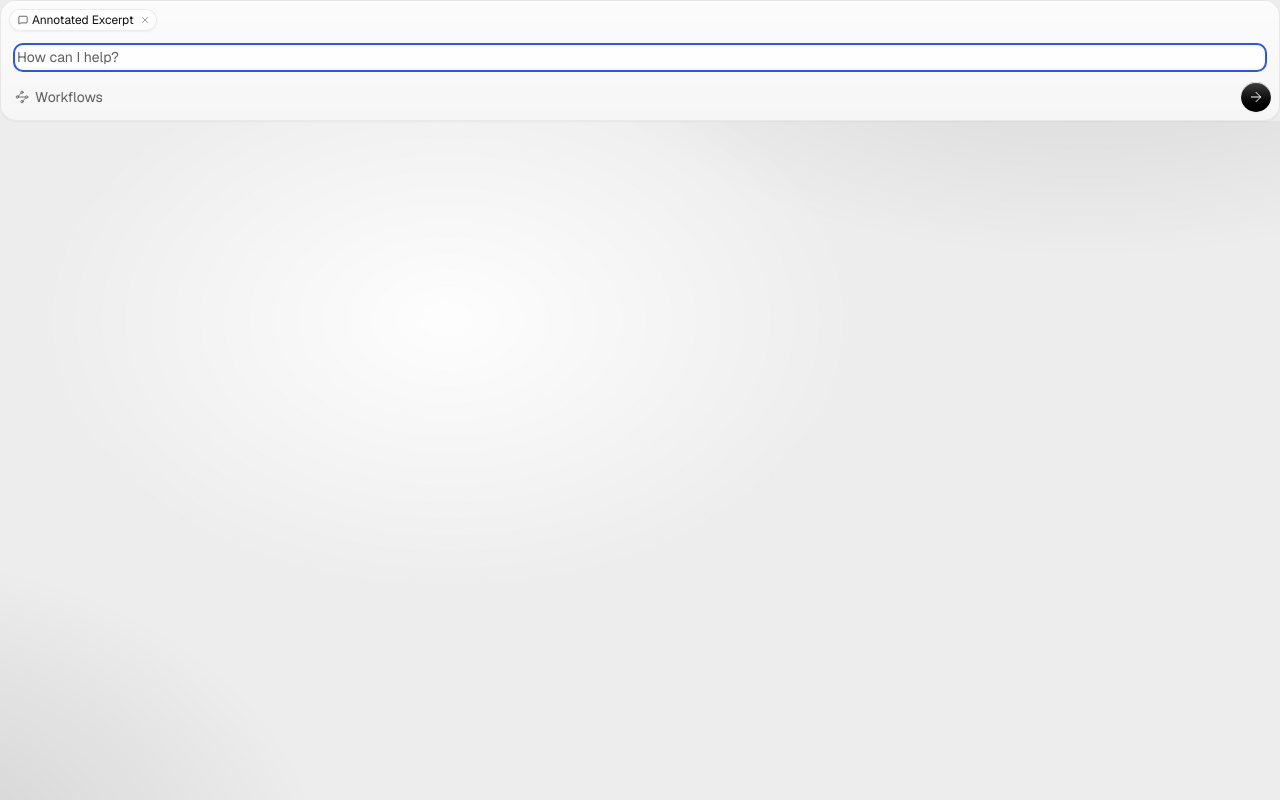
Scenario: ChatInput excerpts › opens the full excerpt and its annotation from the pill
The width and height of the screenshot is (1280, 800).
Click the button with aria-label "View excerpt: Clause 4": click(72, 20) [10,10,134,30]
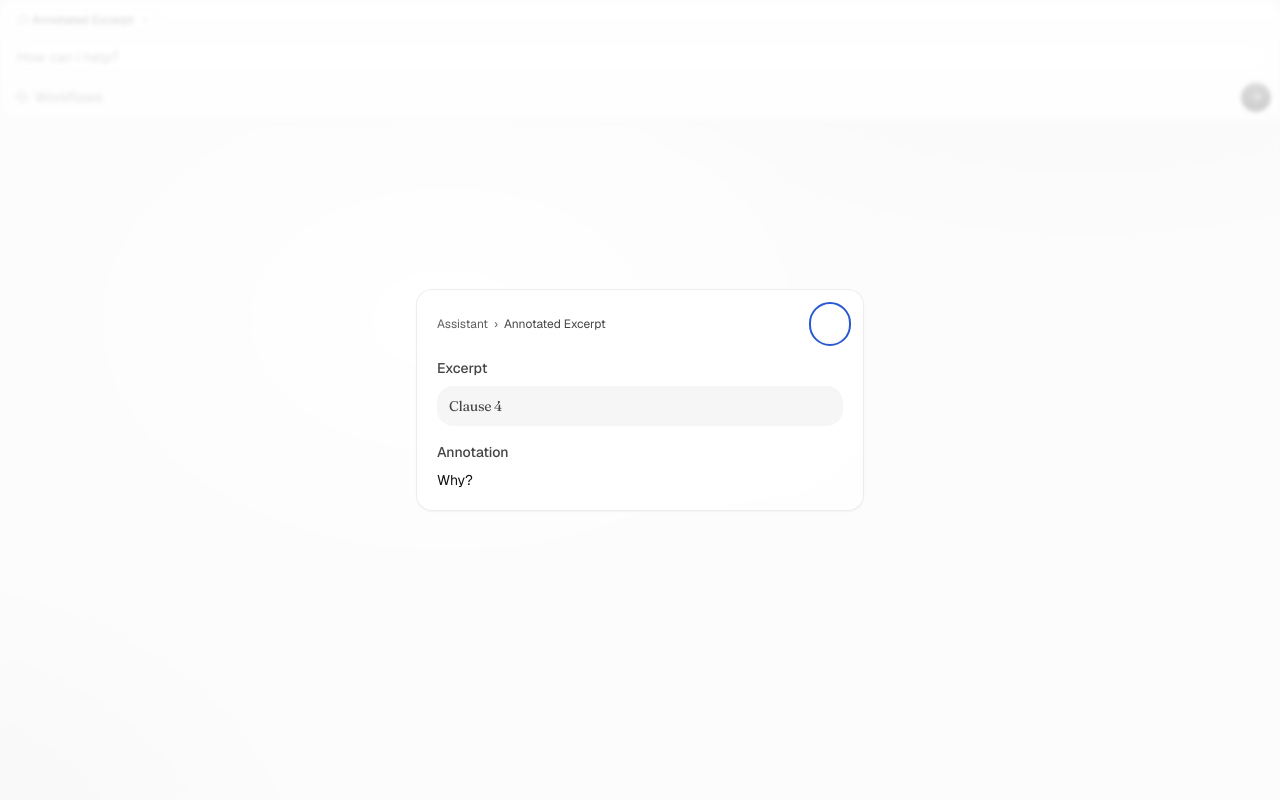
Now the text "Clause 4" is shown, box [449,397,502,415]
Now the text "Annotation" is shown, box [437,443,508,461]
Now the text "Why?" is shown, box [437,471,473,489]
